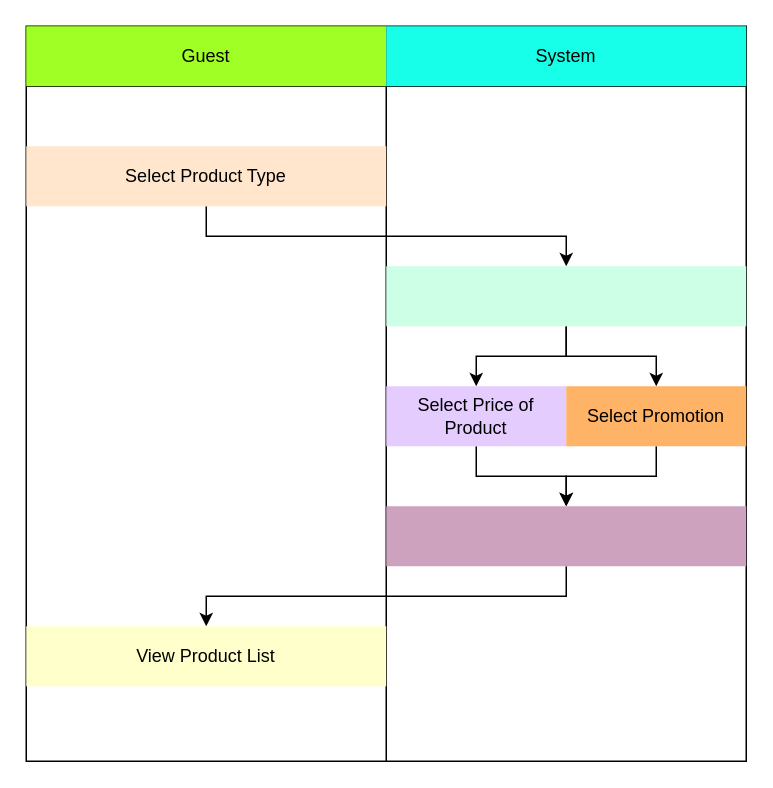
The diagram is 773 pixels wide and 788 high, and some of its shapes have lost their labels. Each missing label, with the box of its shape:
Display Product List: (386, 506, 746, 566)
Select Product List: (386, 266, 746, 326)
